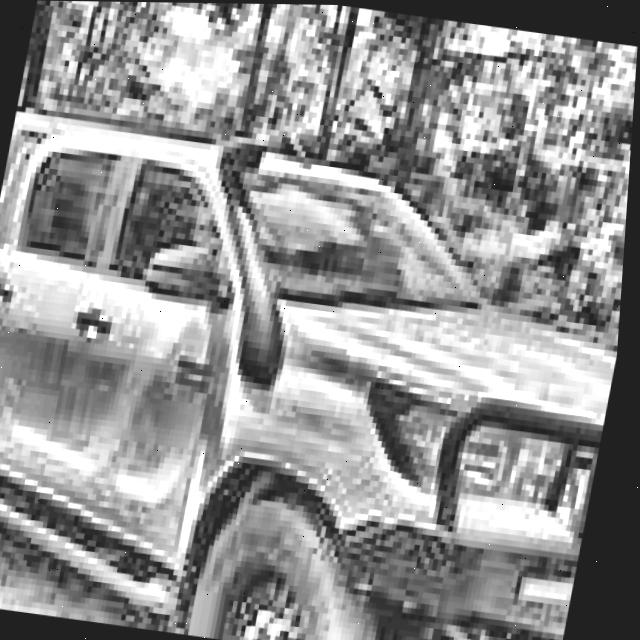light_vehicle: (0, 54, 637, 640)
